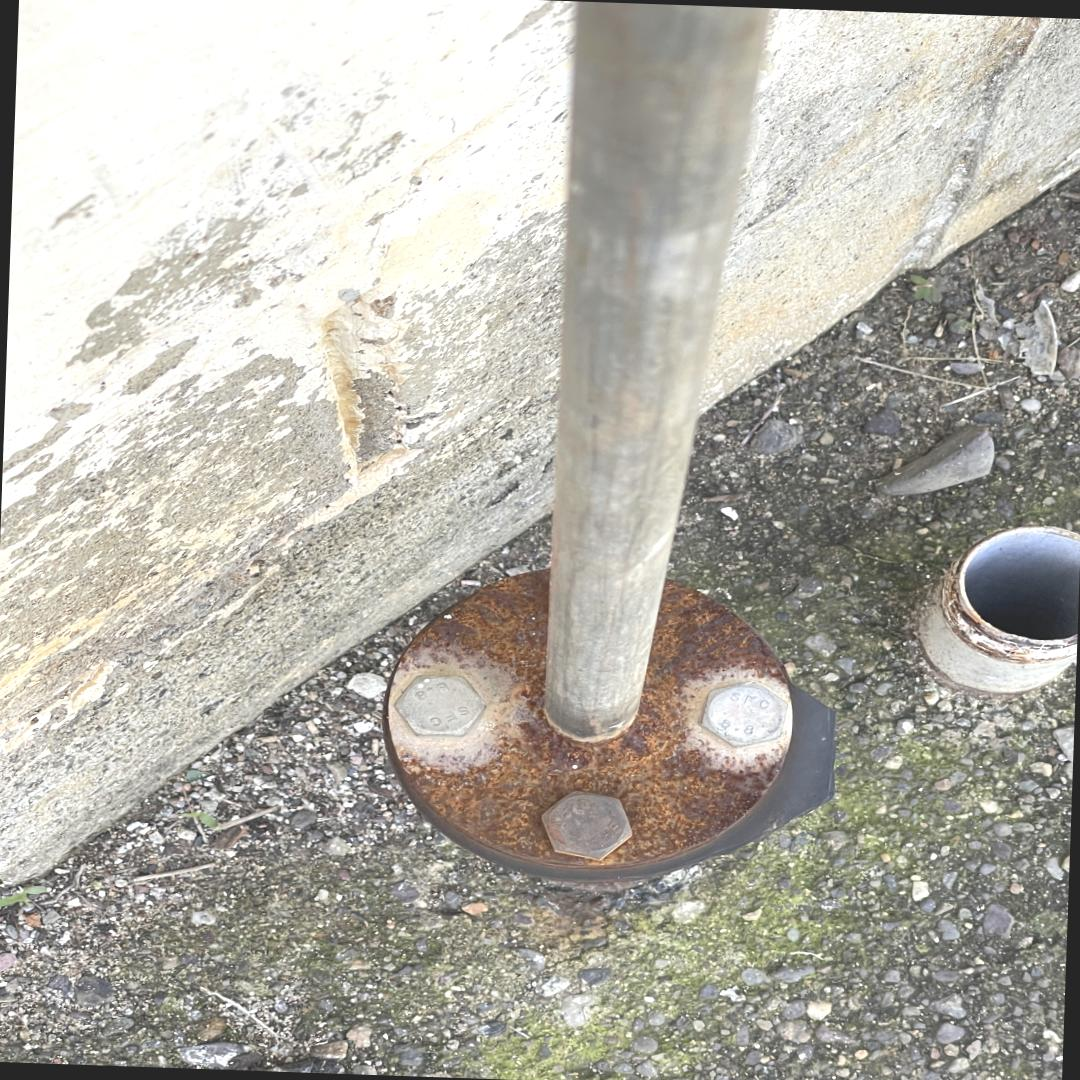Metal: (548, 1, 781, 737)
Metal corroido: (391, 568, 789, 874)
Tornillo sin corrosion: (392, 675, 488, 737), (701, 681, 789, 747)
